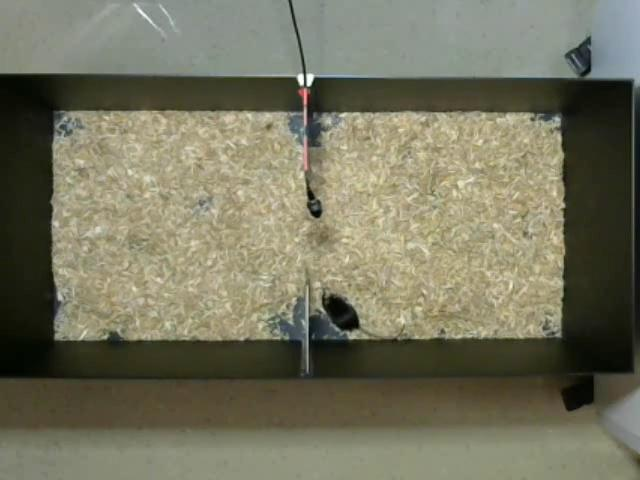rat: (322, 287, 405, 339)
